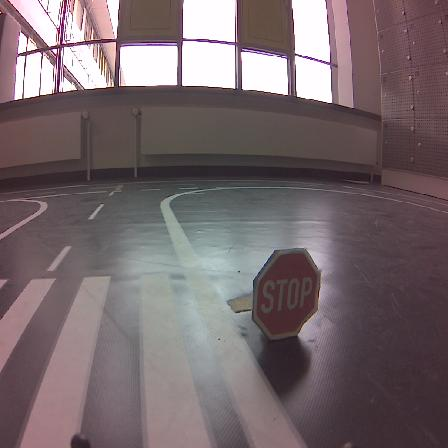STOP: (252, 249, 321, 340)
